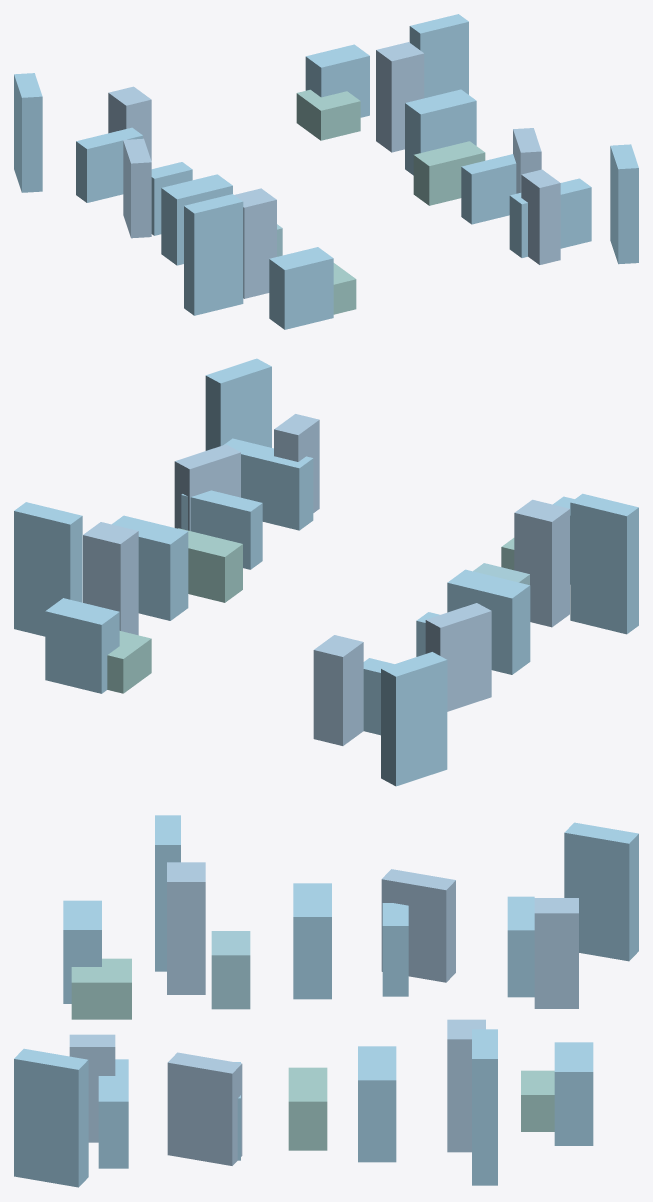
Rendered from SM_Env_Building_Outer.fbx.
3 views of the same model, one above another, from view 1: azimuth 30°, elevation 25°; view 2: azimuth 150°, elevation 25°; view 3: azimuth 270°, elevation 25° (orthographic). The views are drawn at different scales.
Parts seen in each view (by area): view 1: SM_Env_Building_Outer; view 2: SM_Env_Building_Outer; view 3: SM_Env_Building_Outer.
Boxes of the visible parts, x1=… form: SM_Env_Building_Outer: x1=14, y1=14, x2=638, y2=329; SM_Env_Building_Outer: x1=14, y1=358, x2=638, y2=786; SM_Env_Building_Outer: x1=14, y1=815, x2=638, y2=1187.
Bounding box in the file's own units: 8709 × 2081 × 9298.
